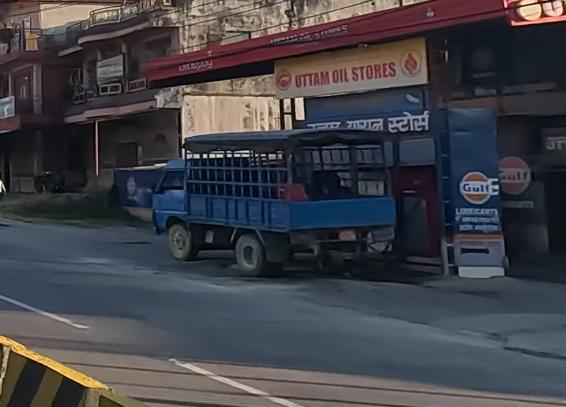mini_truck: (150, 120, 408, 288)
